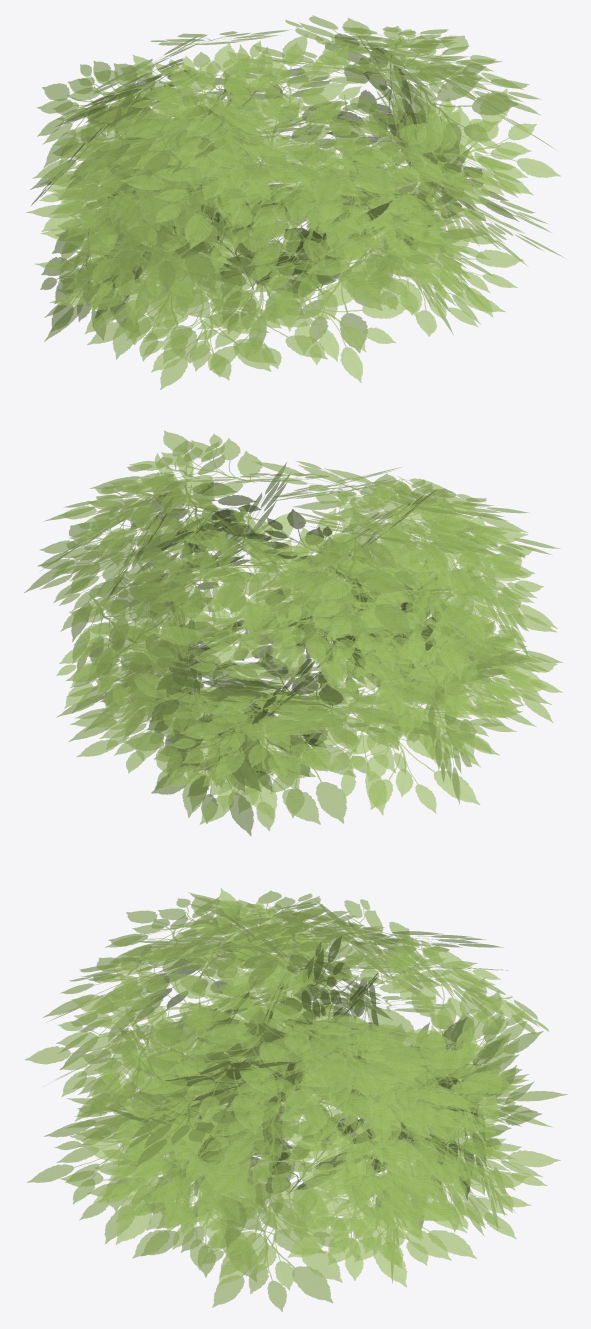
The model's file is Low_Poly_Shrub_-_Medium_Texture.glb.
3 views of the same model, one above another, from view 1: azimuth 30°, elevation 25°; view 2: azimuth 150°, elevation 25°; view 3: azimuth 270°, elevation 25° (orthographic). The views are drawn at different scales.
Visible parts, largest first — view 1: leaves_gbushy_0; view 2: leaves_gbushy_0; view 3: leaves_gbushy_0.
Part boxes in pixels (x1=…): leaves_gbushy_0: x1=26, y1=15, x2=565, y2=389; leaves_gbushy_0: x1=24, y1=430, x2=563, y2=835; leaves_gbushy_0: x1=24, y1=888, x2=567, y2=1311.
Bounding box in the file's own units: 4.17 × 2.37 × 3.88.
1 material, 1 textured.
